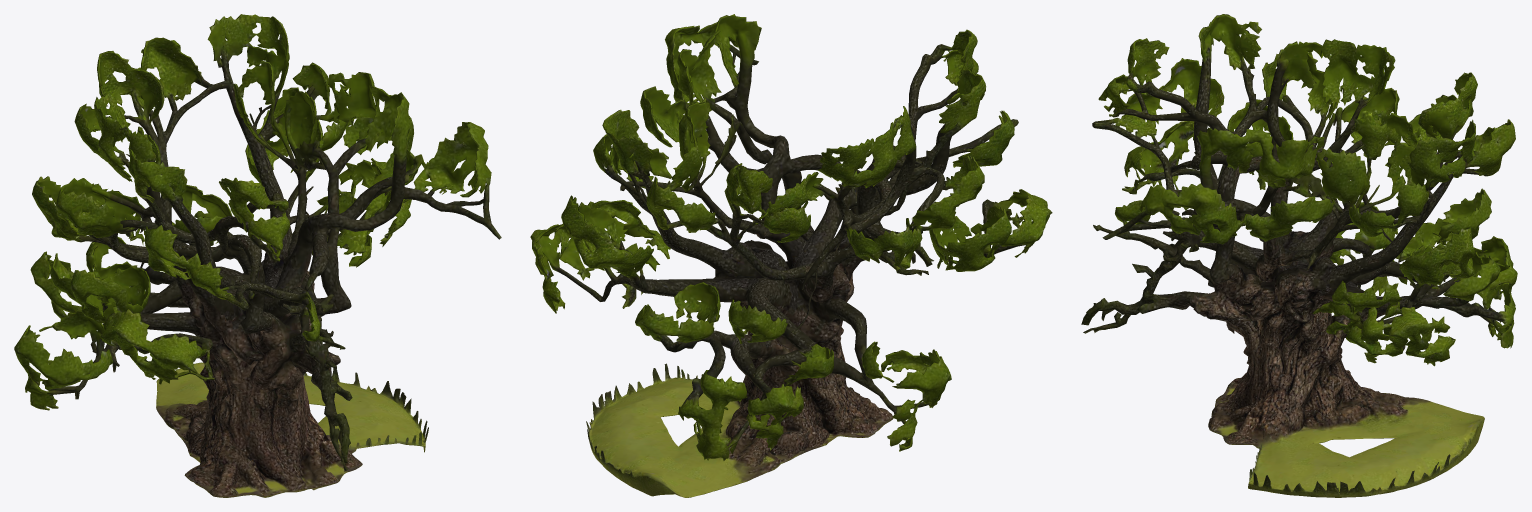
File: tree-model.glb
3 renders of one model, left to right at view 1: azimuth 30°, elevation 25°; view 2: azimuth 150°, elevation 25°; view 3: azimuth 270°, elevation 25°, orthographic. The views are drawn at different scales.
Parts seen in each view (by area): view 1: tripo_node_e01cb445-6b95-4357-9112-d472487de799; view 2: tripo_node_e01cb445-6b95-4357-9112-d472487de799; view 3: tripo_node_e01cb445-6b95-4357-9112-d472487de799.
Part boxes in pixels (x1,y1,x2,y2): tripo_node_e01cb445-6b95-4357-9112-d472487de799: [14, 14, 501, 497]; tripo_node_e01cb445-6b95-4357-9112-d472487de799: [530, 14, 1052, 497]; tripo_node_e01cb445-6b95-4357-9112-d472487de799: [1081, 14, 1517, 497].
Size of the model in its own units: 0.9861 by 0.8664 by 1.
1 material, 1 textured.
